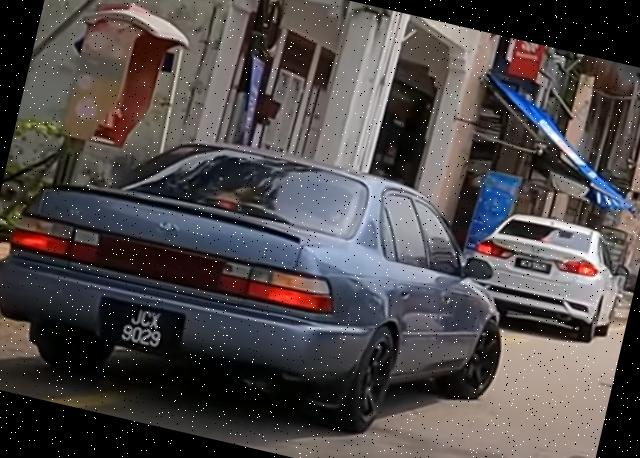License_Plate: (97, 300, 186, 358), (517, 258, 552, 275)
car: (1, 95, 535, 458), (455, 203, 639, 350)
